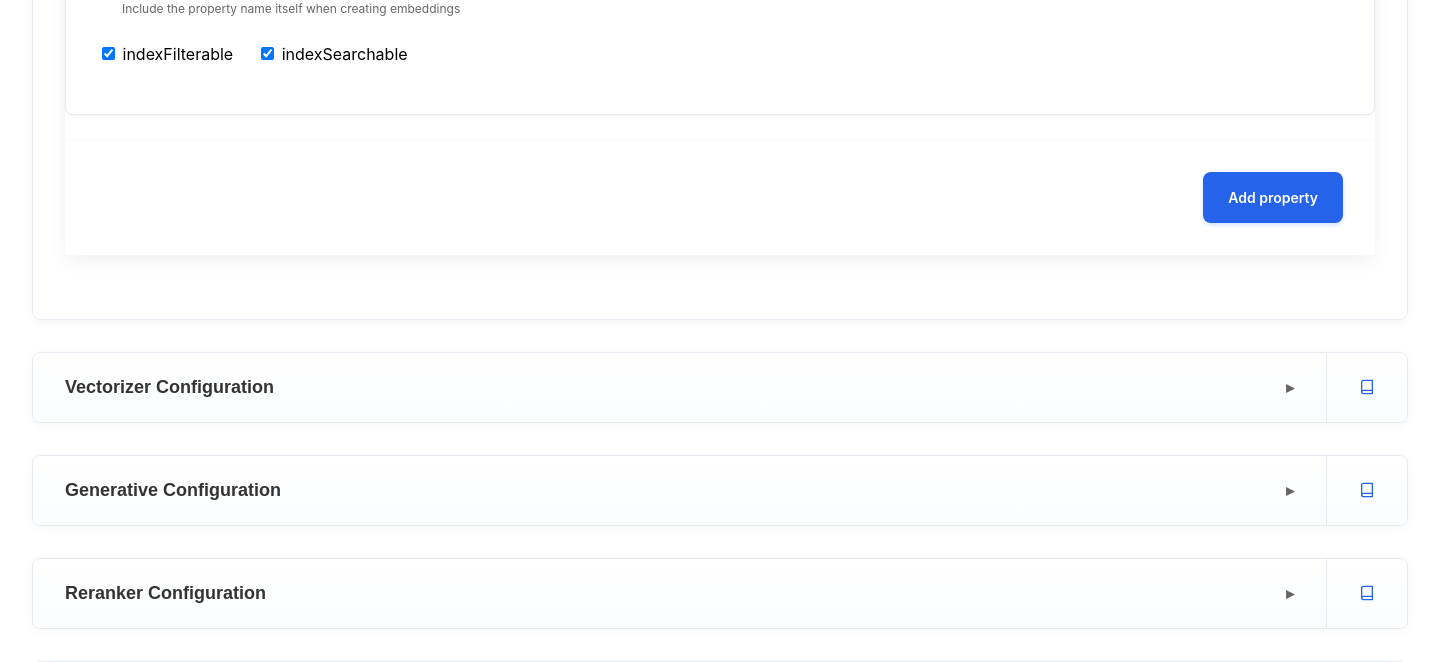
Test case: Collection - Dynamic Index with Quantizers › should only show BQ option for flat index quantization
(page scrolled)
Note: Expand Vectorizer Configuration section
Step 1. Click the button "Vectorizer Configuration ▸" → (170, 387), box [33, 353, 1326, 422]
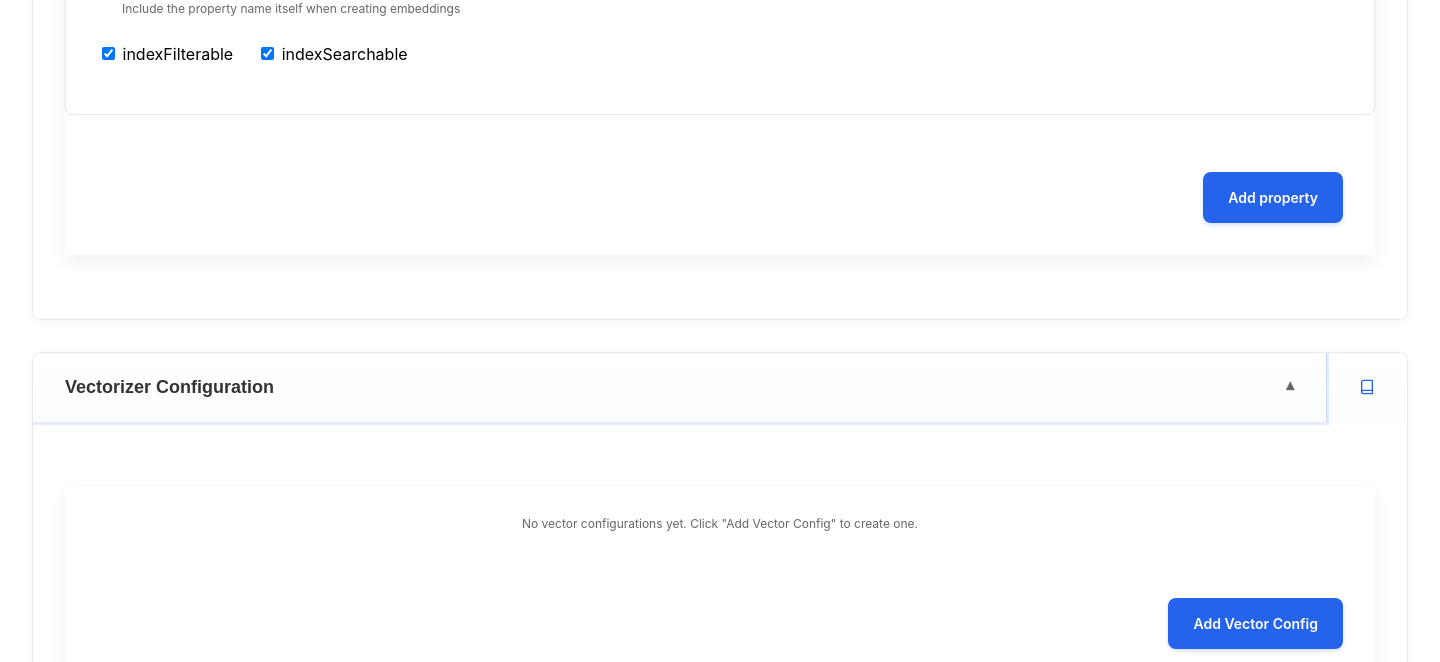
Result: the button "Add Vector Config" is shown
Note: Add a vector config
Step 2. Click the button "Add Vector Config" → (1256, 624), box [1168, 598, 1343, 649]
(page scrolled)
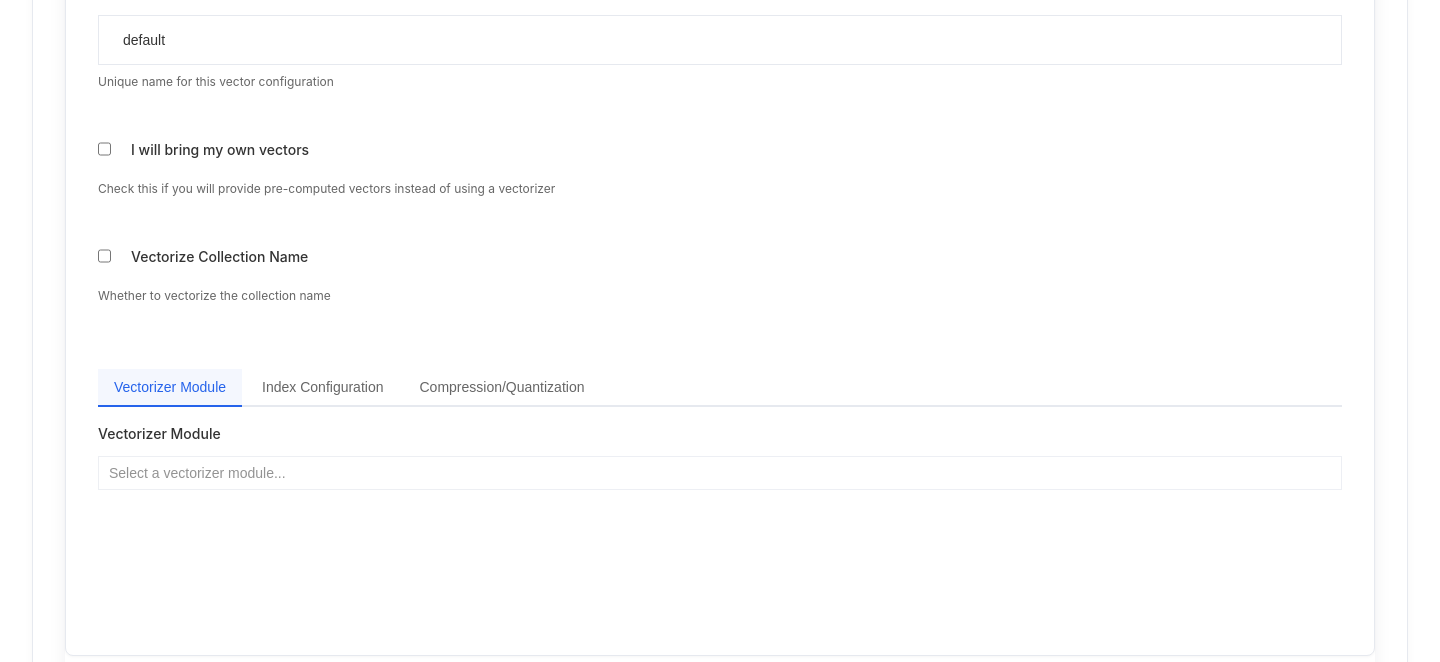
Note: Switch to Index Configuration tab
Step 3. Click the button "Index Configuration" → (323, 388), box [246, 368, 400, 406]
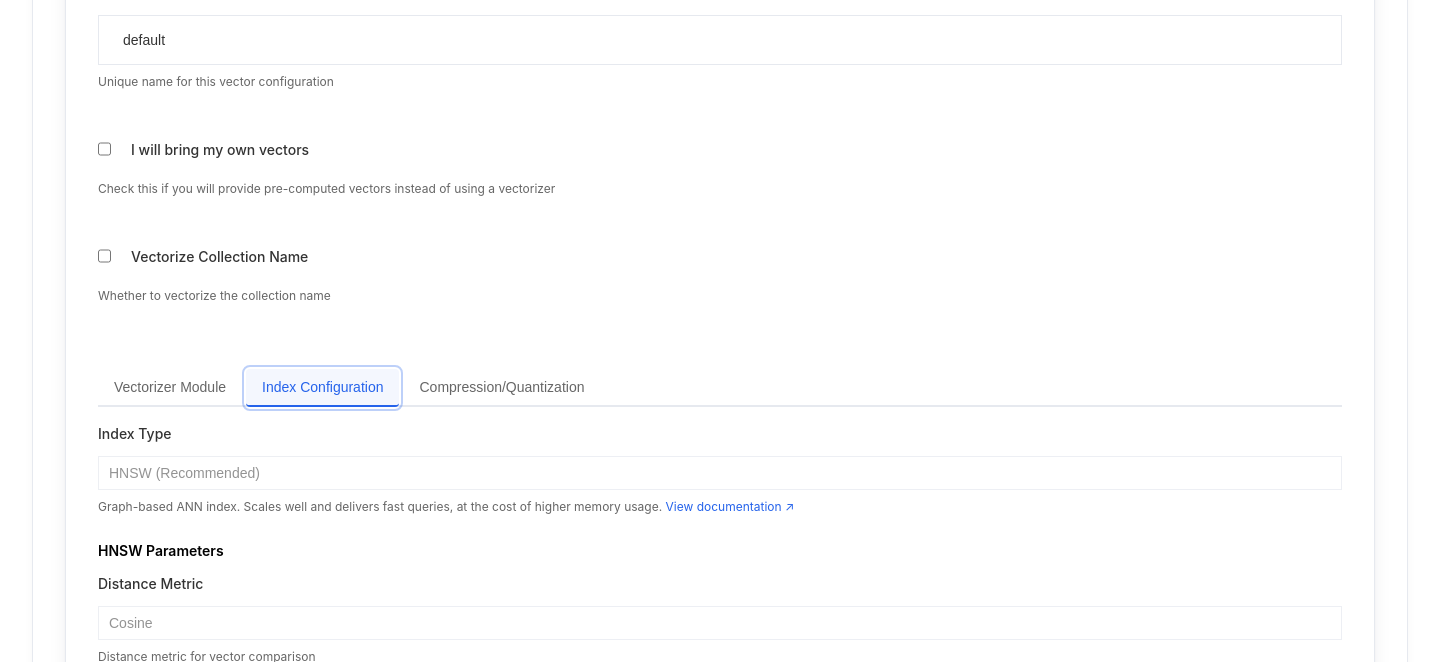
Note: Select dynamic index type
Step 4. Select "Dynamic" in the dropdown labelled "Index Type" → (720, 472), box [98, 456, 1342, 490]
(page scrolled)
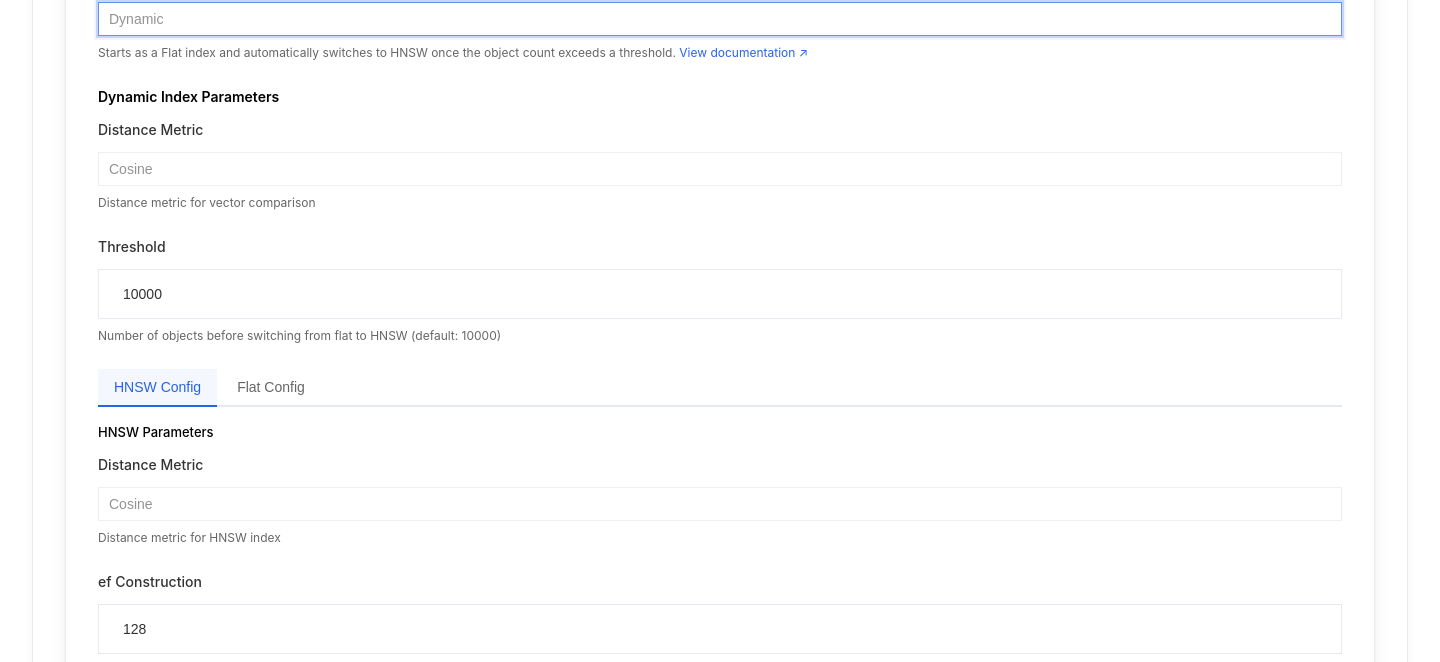
Result: the button "Flat Config" is shown
Step 5. Click the button "Flat Config" → (271, 388), box [221, 368, 321, 406]
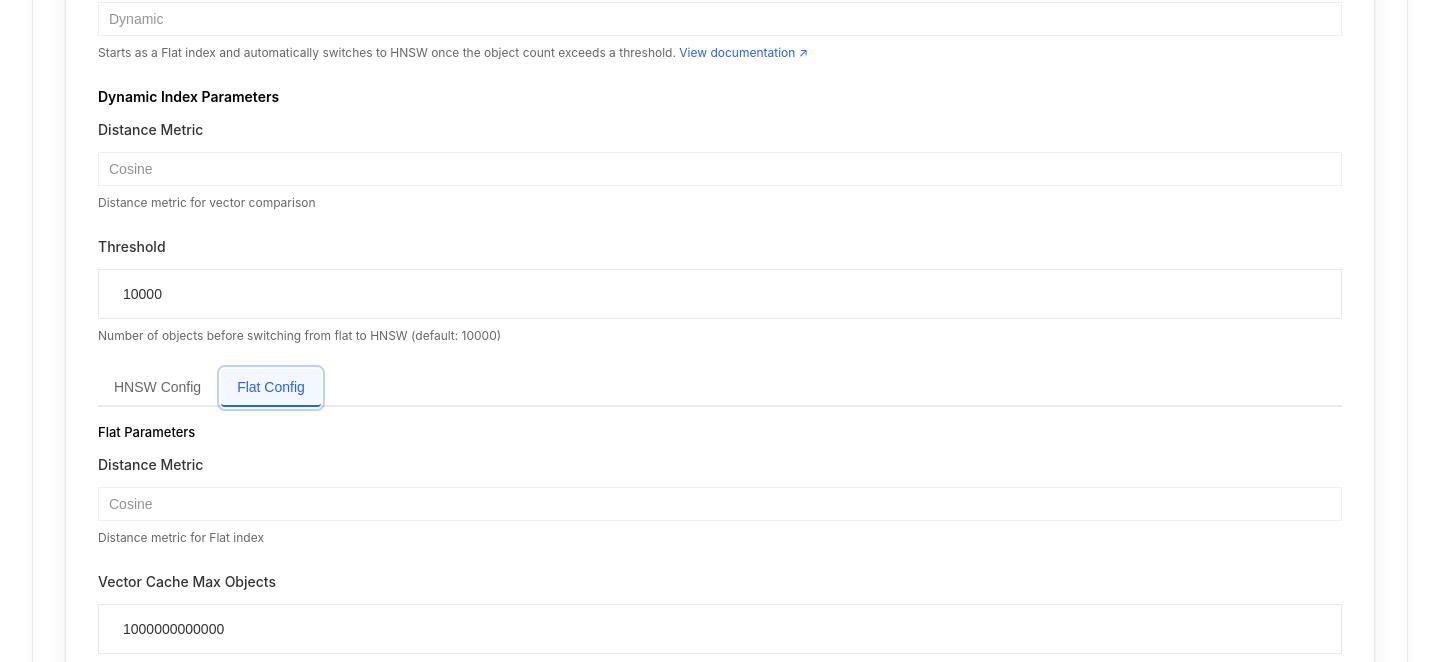
Result: the heading "Flat Parameters" is shown at [98, 424, 195, 440]
